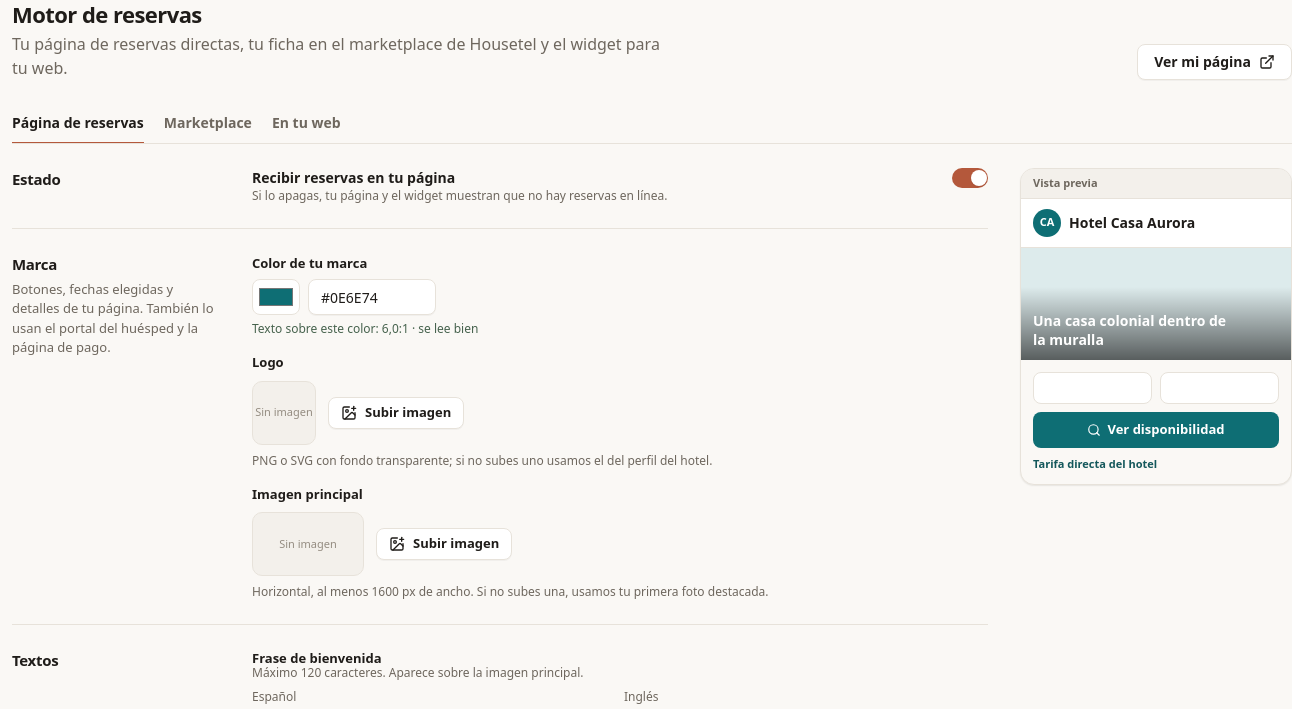
BookingEngineSettingsPage › saves only what changed in the booking engine and previews the brand live
Replace the text in the field named "Código del color" with "#8A4F7D" at (372,297), box top-left (308, 279), bottom-right (436, 315)
(page scrolled)
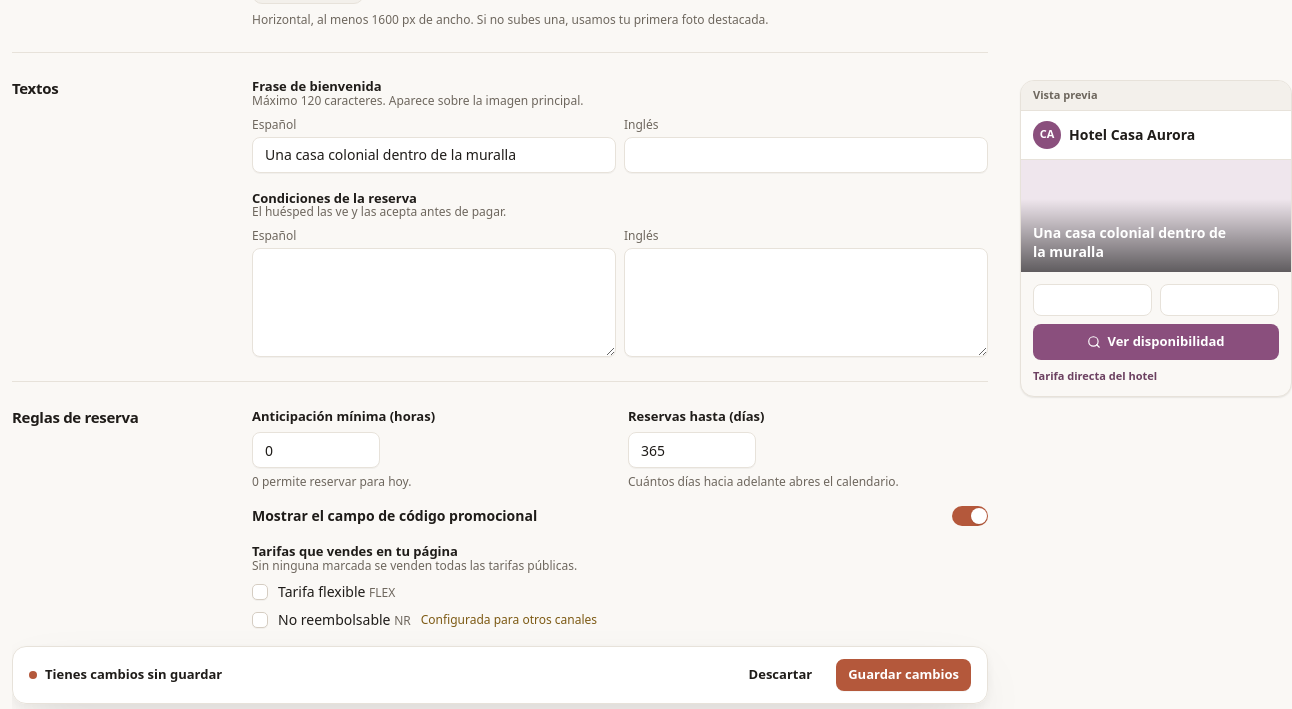
Click the checkbox named "Tarifa flexible" next to "Tarifa flexible" at (260,592), box top-left (252, 584), bottom-right (268, 600)
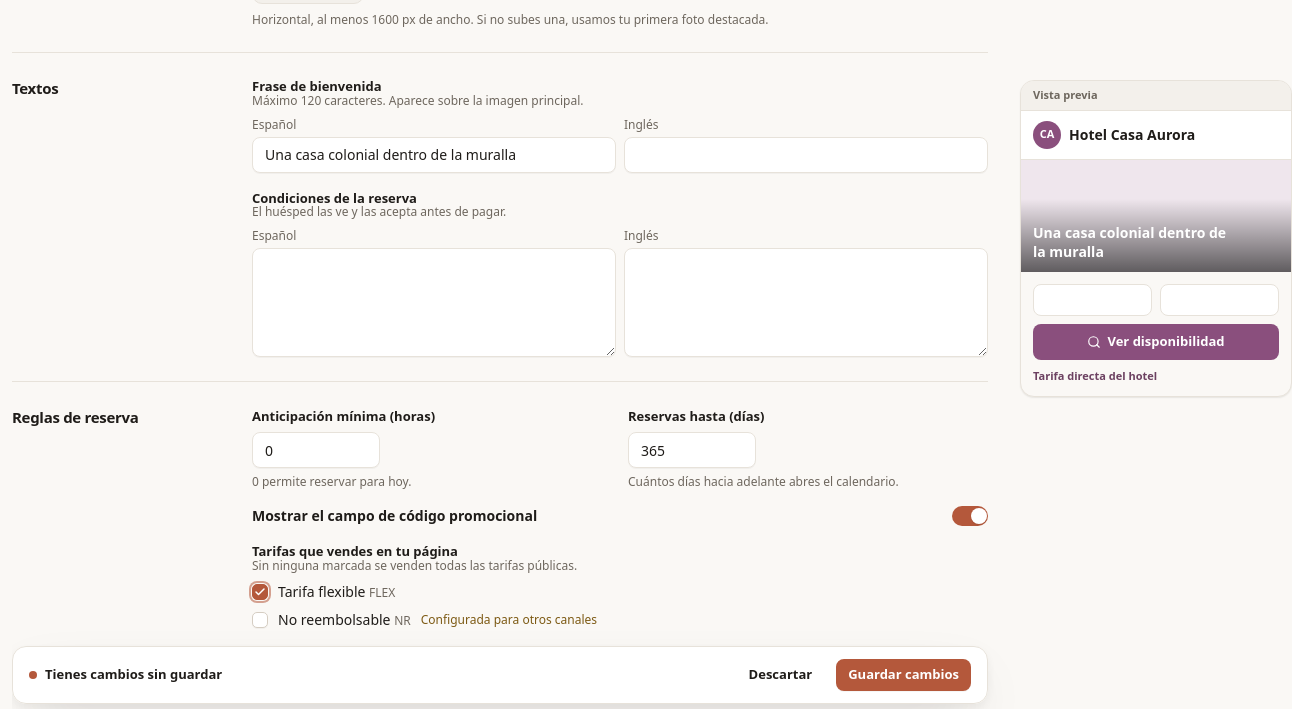
Click the button "Guardar cambios" at (904,675), box top-left (836, 659), bottom-right (971, 691)
(page scrolled)
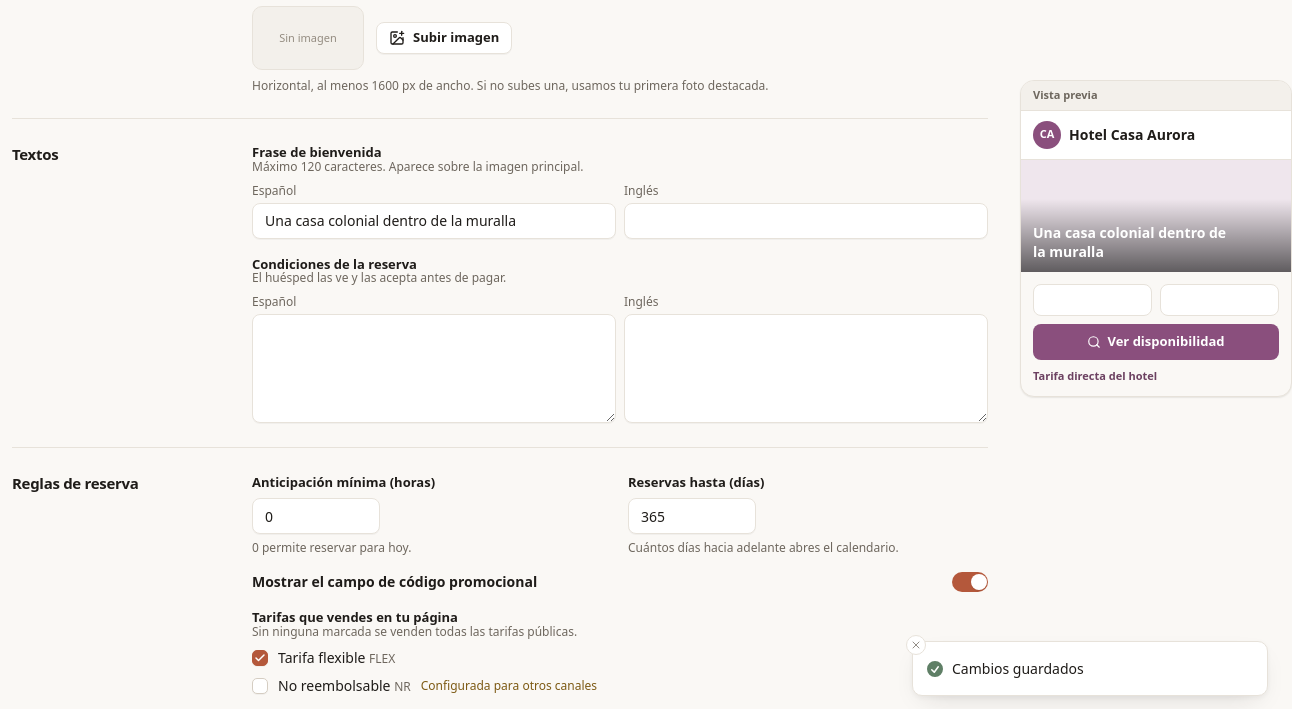
Result: the text "Cambios guardados" is shown at top-left (952, 658), bottom-right (1084, 679)
